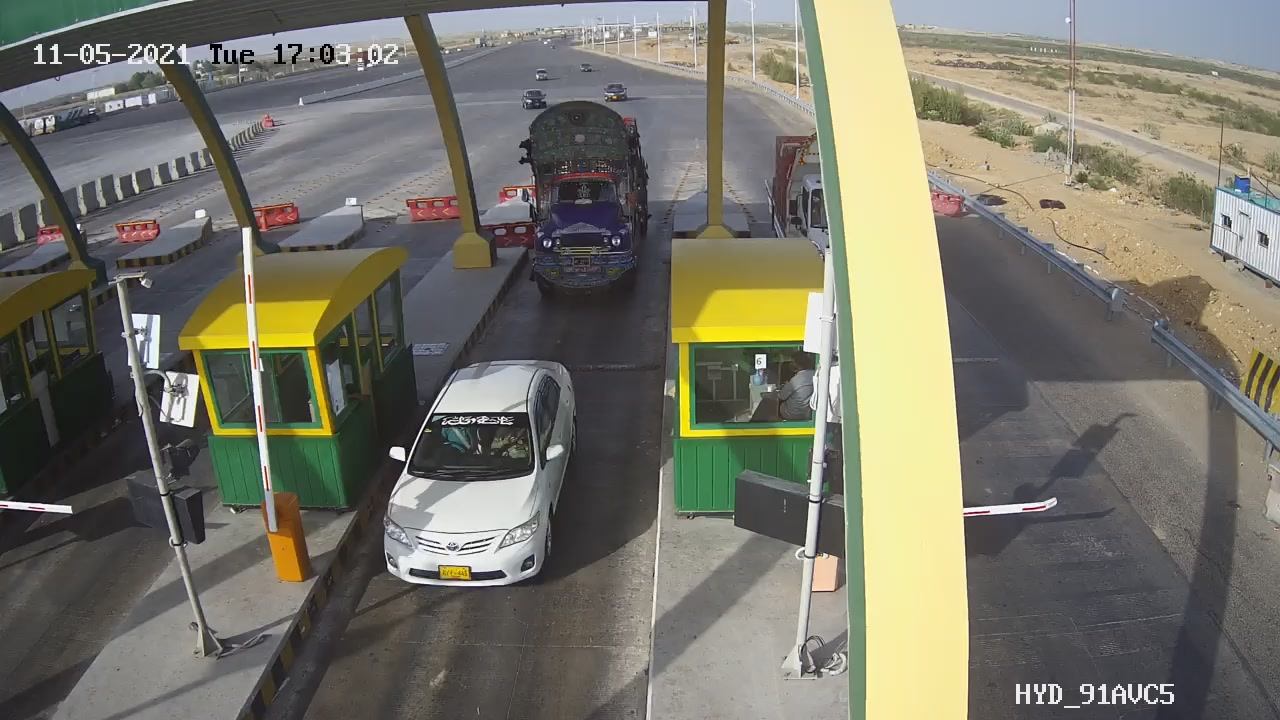F1: (351, 340, 599, 613)
F5: (500, 82, 659, 297)
